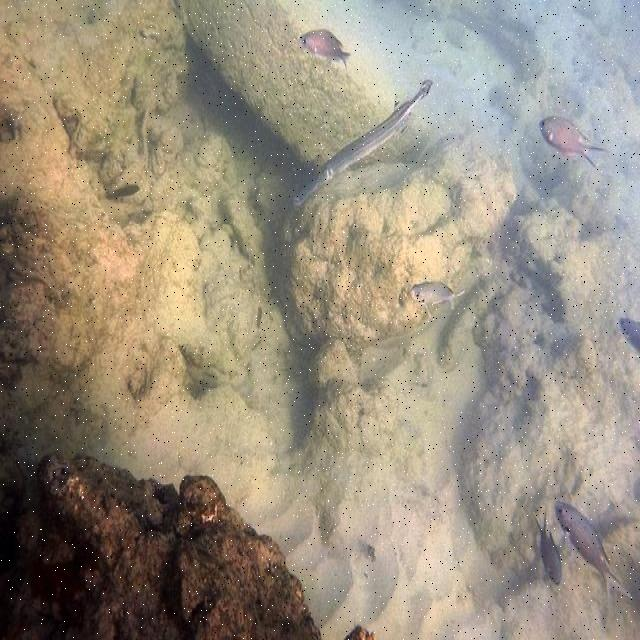fish: (292, 81, 435, 211), (557, 501, 633, 609), (539, 116, 605, 170), (533, 509, 563, 586), (301, 28, 353, 67), (410, 281, 467, 309)
sea-floor: (0, 453, 320, 639)
